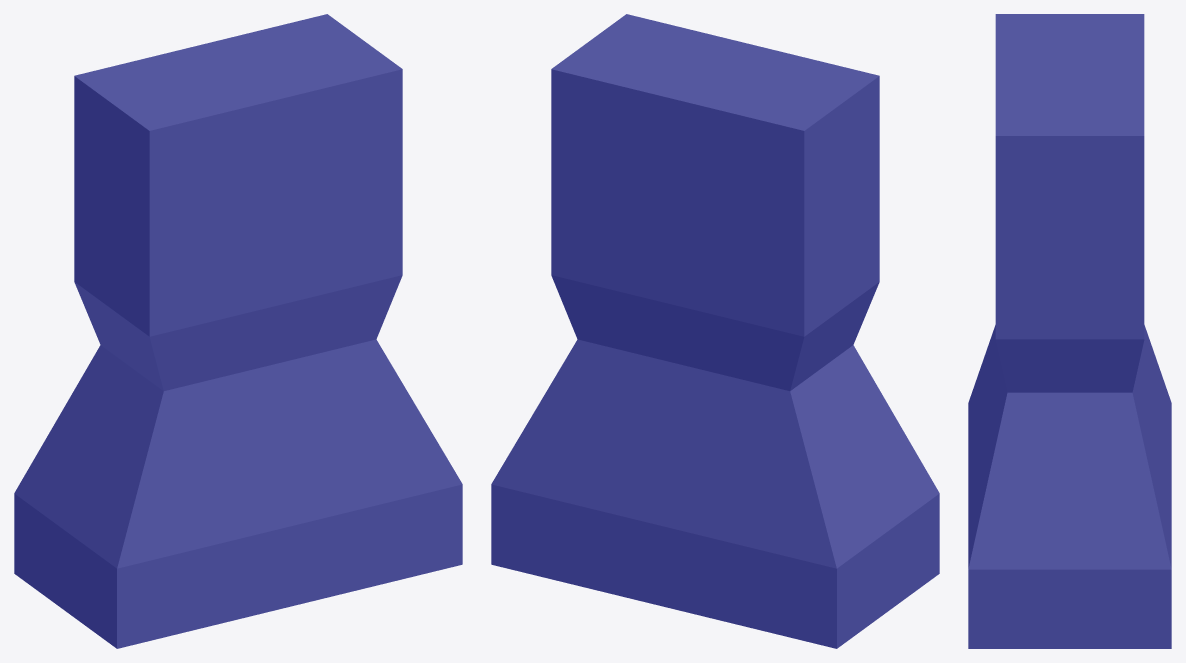
The picture shows the model from 3 angles, left to right: view 1: azimuth 30°, elevation 25°; view 2: azimuth 150°, elevation 25°; view 3: azimuth 270°, elevation 25°; orthographic projection.
Parts seen in each view (by area): view 1: building_0000000000000003; view 2: building_0000000000000003; view 3: building_0000000000000003.
Boxes of the visible parts, x1,y1,x2,y2 form: building_0000000000000003: (14,14,462,648); building_0000000000000003: (491,14,939,648); building_0000000000000003: (968,14,1171,648).
Bounding box in the file's own units: 344 × 473 × 178.
